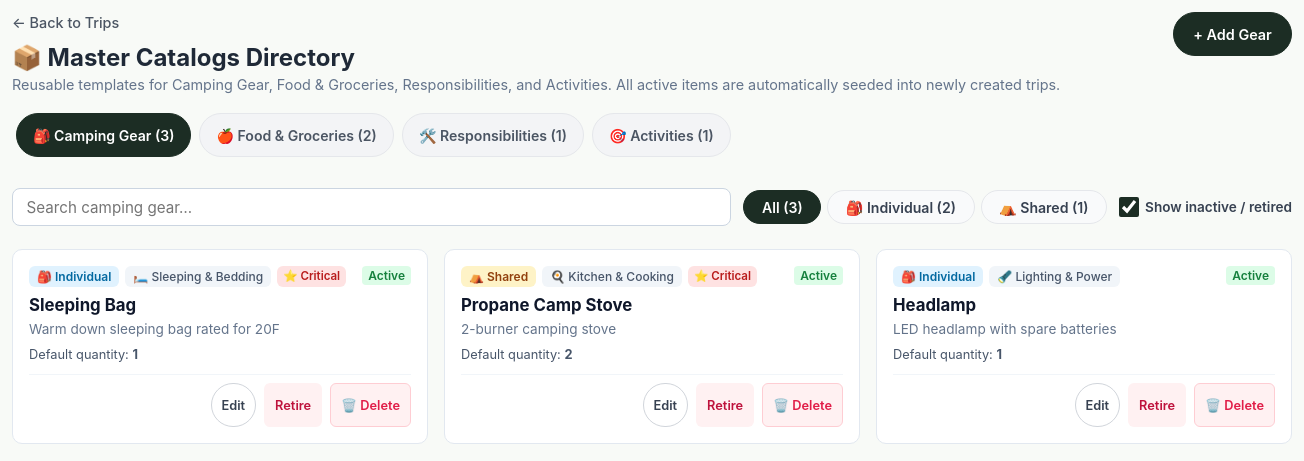
Test: MasterCatalogPage › filters item names in real-time when typing in search input
Expected: the heading "Sleeping Bag" is shown, [29, 295, 136, 315]
Type "propane" into the search field with placeholder "Search camping gear…" at (372, 207), box [12, 188, 731, 226]
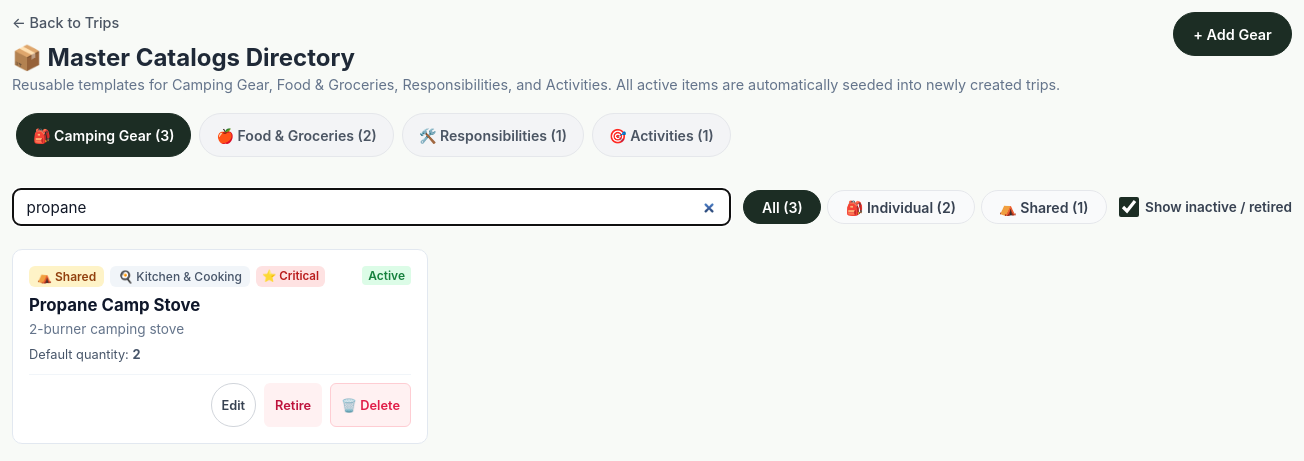
Expected: the heading "Propane Camp Stove" is shown, [29, 295, 200, 315]
Expected: the heading "Sleeping Bag" is gone
Expected: the heading "Headlamp" is gone
Clear the search field with placeholder "Search camping gear…" at (372, 207), box [12, 188, 731, 226]
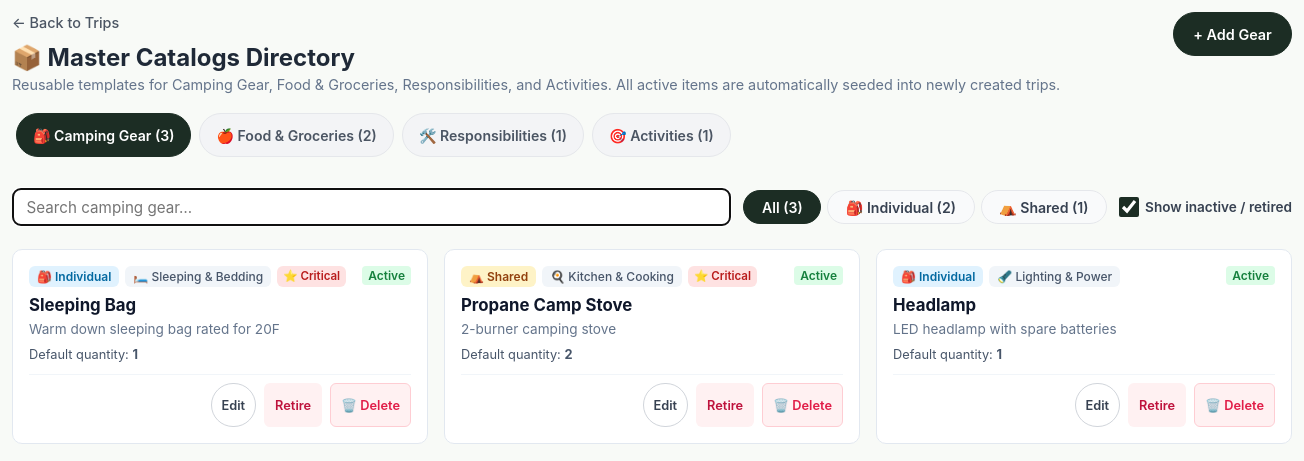
Expected: the heading "Propane Camp Stove" is shown, [461, 295, 632, 315]
Expected: the heading "Sleeping Bag" is shown, [29, 295, 136, 315]
